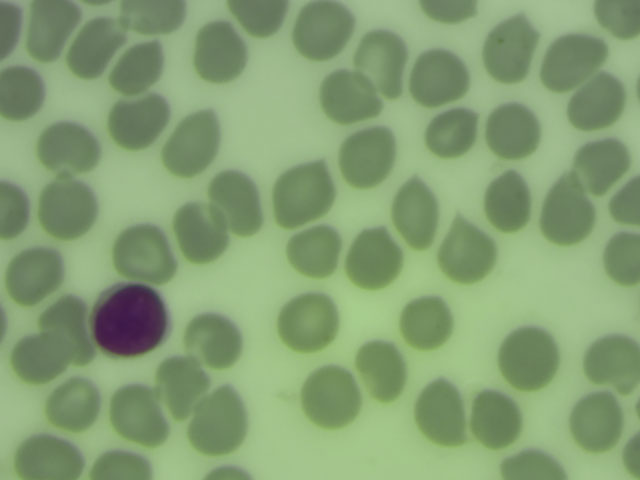RBC: (393, 170, 442, 249), (273, 164, 338, 223), (503, 327, 561, 390), (14, 434, 84, 480), (486, 15, 534, 81), (417, 375, 463, 442), (437, 222, 493, 277), (164, 116, 220, 171), (191, 394, 249, 447), (541, 32, 606, 79), (340, 129, 394, 184), (46, 294, 88, 364), (26, 1, 73, 61), (585, 332, 640, 383), (298, 3, 349, 56), (492, 443, 565, 480), (225, 1, 294, 40), (410, 52, 465, 100), (85, 445, 159, 480), (67, 22, 112, 79), (483, 178, 536, 225), (214, 173, 257, 230), (600, 231, 640, 292), (404, 297, 453, 345), (470, 392, 519, 440), (306, 372, 355, 420), (282, 299, 331, 347), (569, 397, 618, 445), (291, 227, 340, 275), (543, 192, 592, 240), (578, 138, 627, 186), (488, 106, 537, 154), (427, 109, 476, 157), (571, 79, 620, 127), (324, 71, 373, 119), (359, 31, 408, 79), (173, 211, 222, 259), (119, 229, 168, 277), (190, 318, 239, 366), (156, 361, 205, 409), (113, 388, 162, 436), (50, 378, 99, 426), (16, 329, 65, 377), (8, 252, 57, 300), (45, 185, 94, 233), (43, 122, 92, 170), (111, 95, 160, 143), (194, 26, 243, 74), (117, 43, 166, 91), (359, 347, 408, 395), (349, 235, 398, 283), (120, 1, 187, 36), (1, 70, 49, 118), (601, 179, 640, 229), (1, 183, 33, 241), (598, 1, 640, 44), (416, 1, 479, 25), (1, 1, 22, 61)
WBC: (87, 276, 172, 362)
